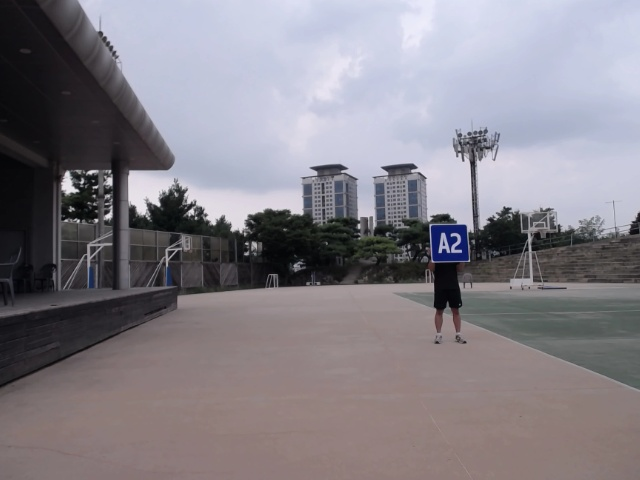delivery_a2: (430, 224, 470, 262)
